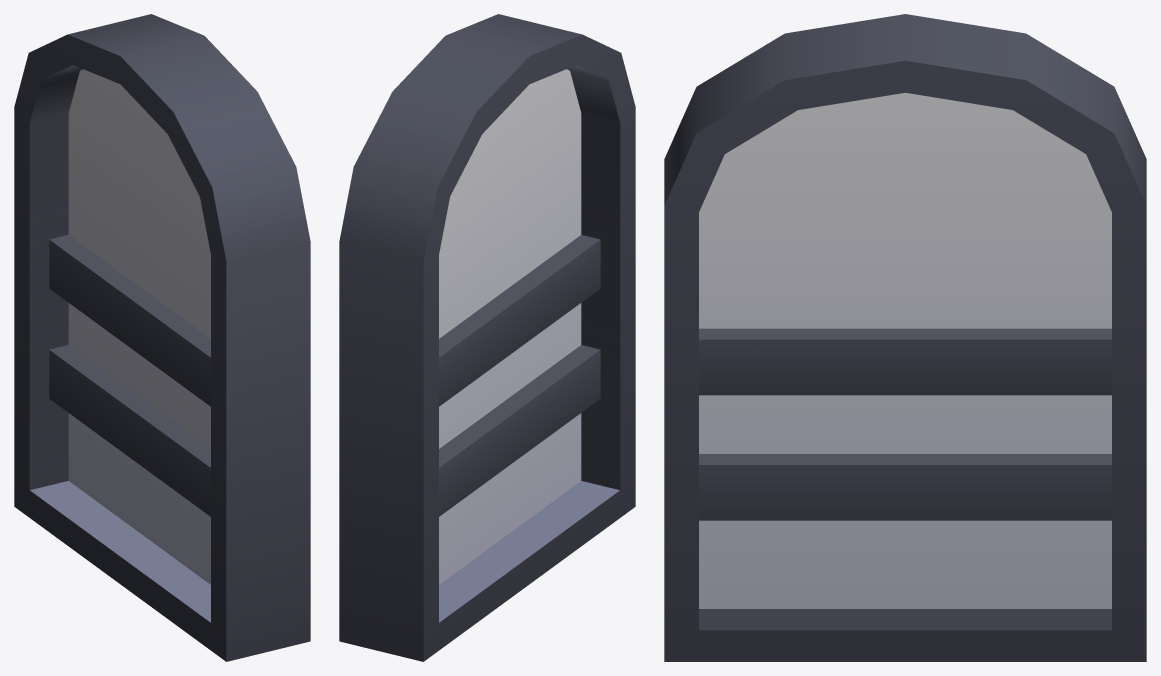
File: gate.glb
The picture shows the model from 3 angles, left to right: view 1: azimuth 30°, elevation 25°; view 2: azimuth 150°, elevation 25°; view 3: azimuth 270°, elevation 25°; orthographic projection. The views are drawn at different scales.
Visible parts, largest first — view 1: gate; view 2: gate; view 3: gate.
Part boxes in pixels (box(x1,y1,x2,y2)): gate: box(14, 14, 310, 661); gate: box(339, 14, 635, 661); gate: box(664, 14, 1146, 661).
Bounding box in the file's own units: 0.1516 × 0.9103 × 0.6622.
1 material, 1 textured.
